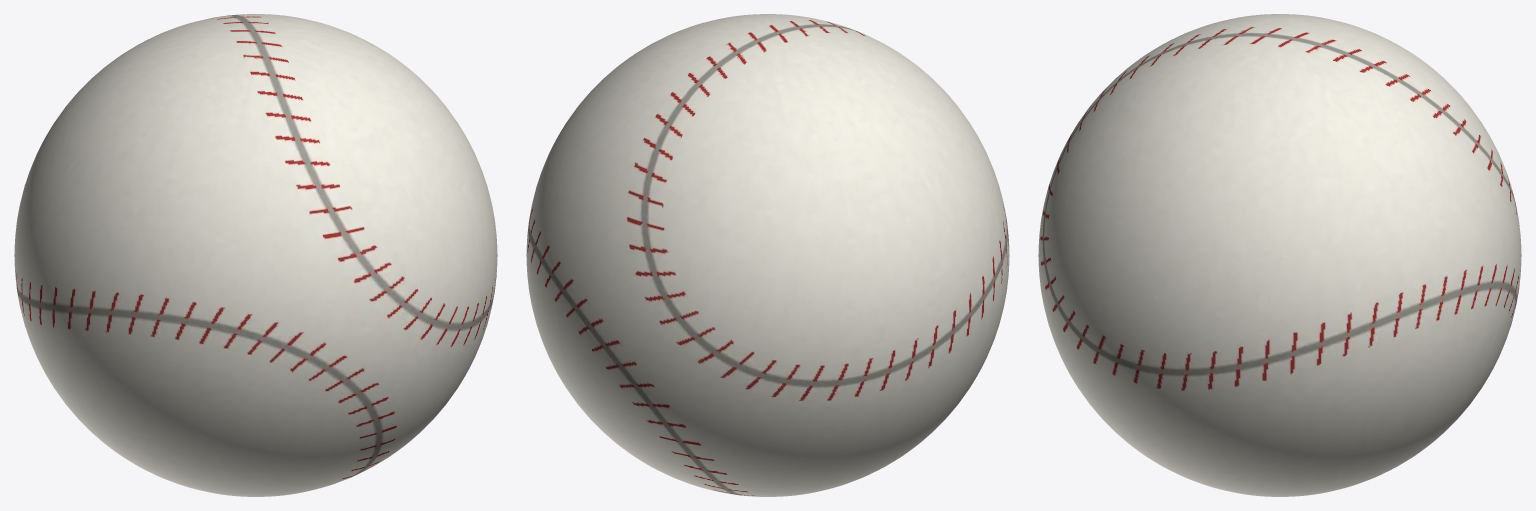
The model's file is ball-baseball.glb.
The picture shows the model from 3 angles, left to right: view 1: azimuth 30°, elevation 25°; view 2: azimuth 150°, elevation 25°; view 3: azimuth 270°, elevation 25°; orthographic projection.
Parts seen in each view (by area): view 1: Ball; view 2: Ball; view 3: Ball.
Boxes of the visible parts, <box> form: Ball: <box>14,14,497,496</box>; Ball: <box>526,14,1009,496</box>; Ball: <box>1038,14,1521,496</box>.
Size of the model in its own units: 0.0738 by 0.0738 by 0.0738.
2 materials, 2 textured.
